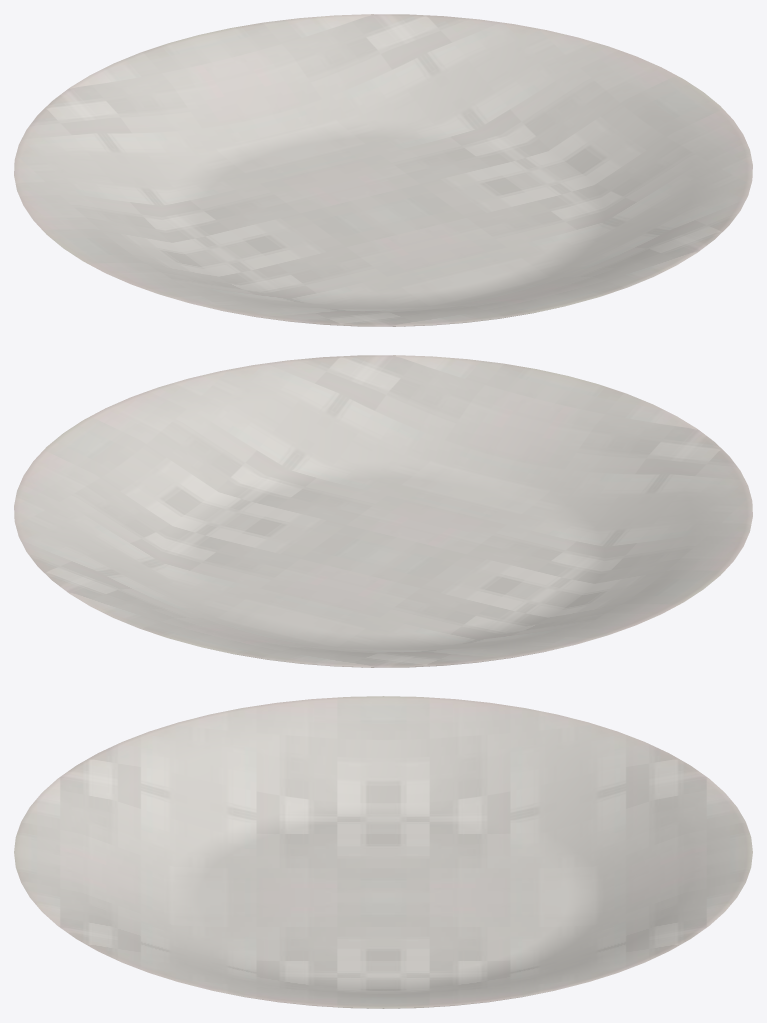
Rendered from FLO-07.glb.
3 views of the same model, one above another, from view 1: azimuth 30°, elevation 25°; view 2: azimuth 150°, elevation 25°; view 3: azimuth 270°, elevation 25° (orthographic).
Size of the model in its own units: 0.27 by 0.022 by 0.27.
2 materials, 2 textured.
